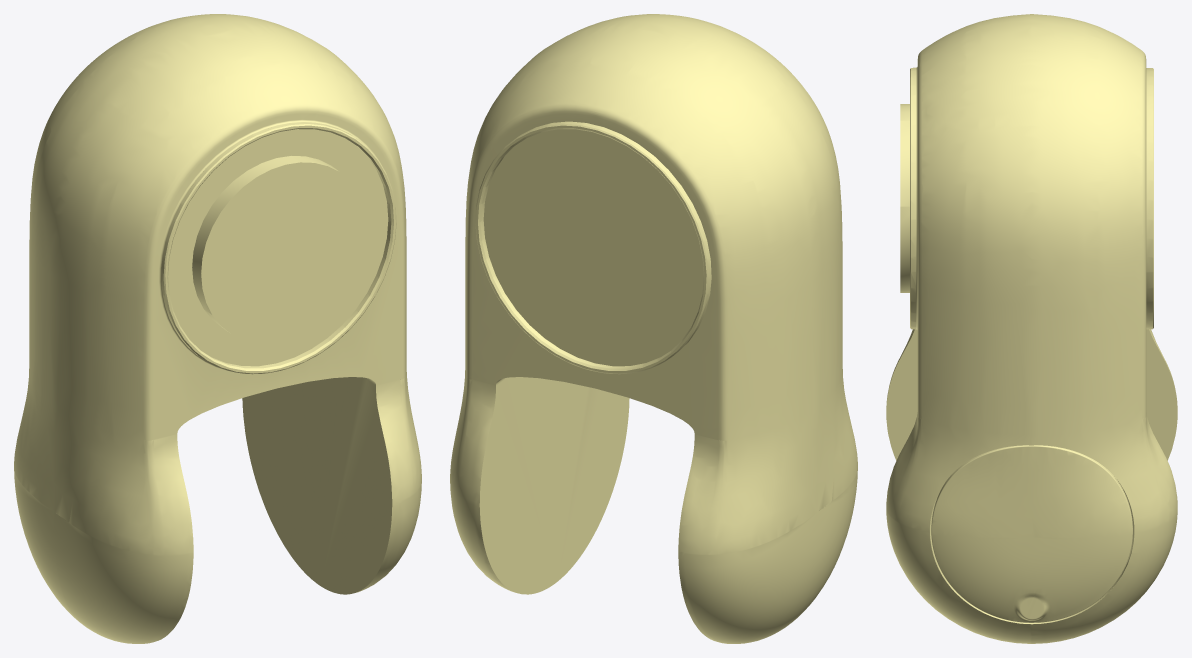
Rendered from wrist_yaw_r_j6_link.glb.
3 views of the same model, side by side, from view 1: azimuth 30°, elevation 25°; view 2: azimuth 150°, elevation 25°; view 3: azimuth 270°, elevation 25° (orthographic). The views are drawn at different scales.
Visible parts, largest first — view 1: Mesh_0.016; view 2: Mesh_0.016; view 3: Mesh_0.016.
Part boxes in pixels (x1,y1,x2,y2): Mesh_0.016: (14, 14, 421, 643); Mesh_0.016: (450, 14, 857, 643); Mesh_0.016: (886, 14, 1177, 643).
Bounding box in the file's own units: 0.0955 × 0.1606 × 0.0758.
